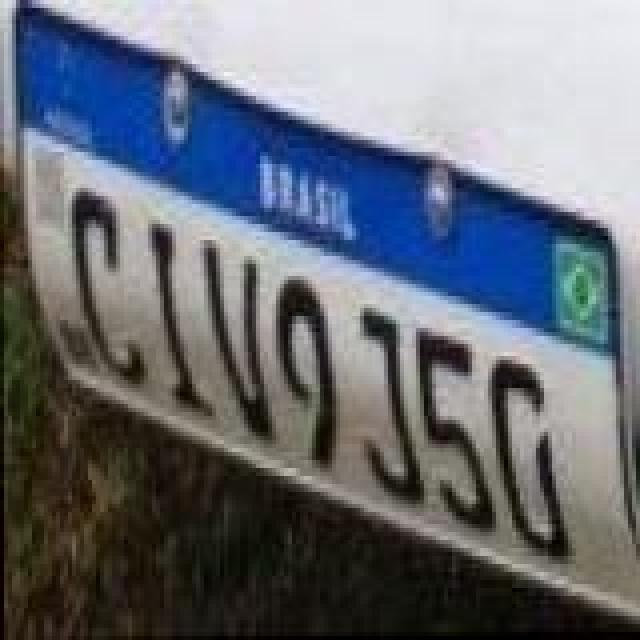5: (416, 330, 492, 538)
9: (274, 274, 338, 470)
C: (68, 188, 144, 400)
D: (488, 354, 572, 570)
I: (150, 222, 214, 422)
J: (360, 308, 428, 516)
V: (202, 238, 274, 446)
